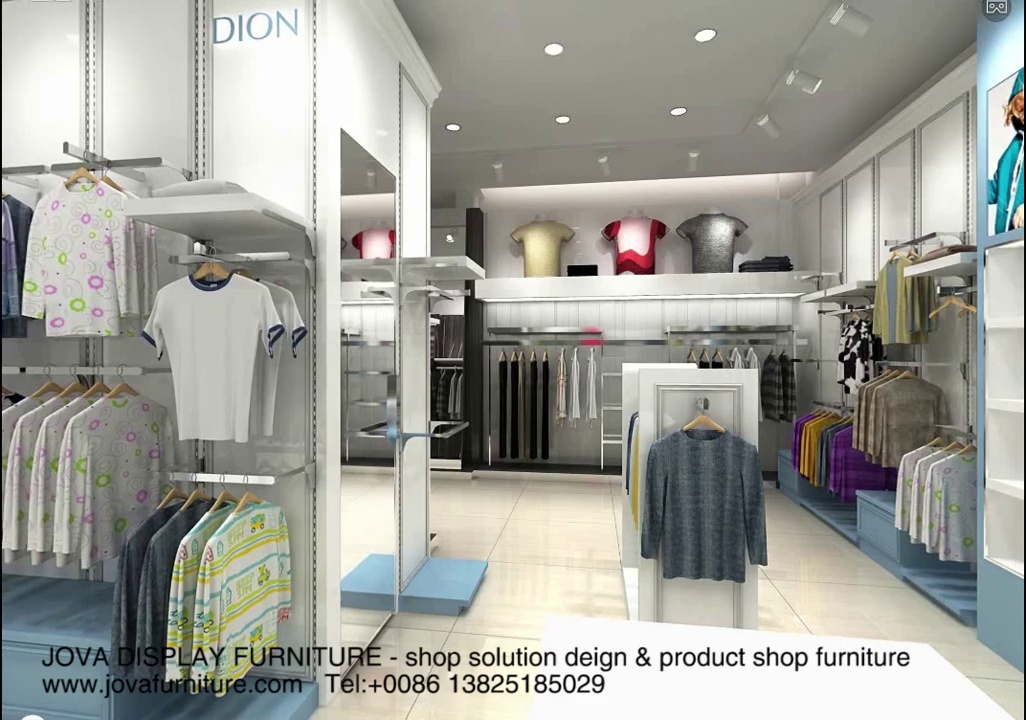grey shirt: (645, 437, 773, 596)
white shirt: (151, 275, 302, 434)
white shirt 2: (14, 397, 119, 558), (29, 190, 125, 337), (897, 449, 975, 559)
white shirt 3: (182, 522, 305, 641)
